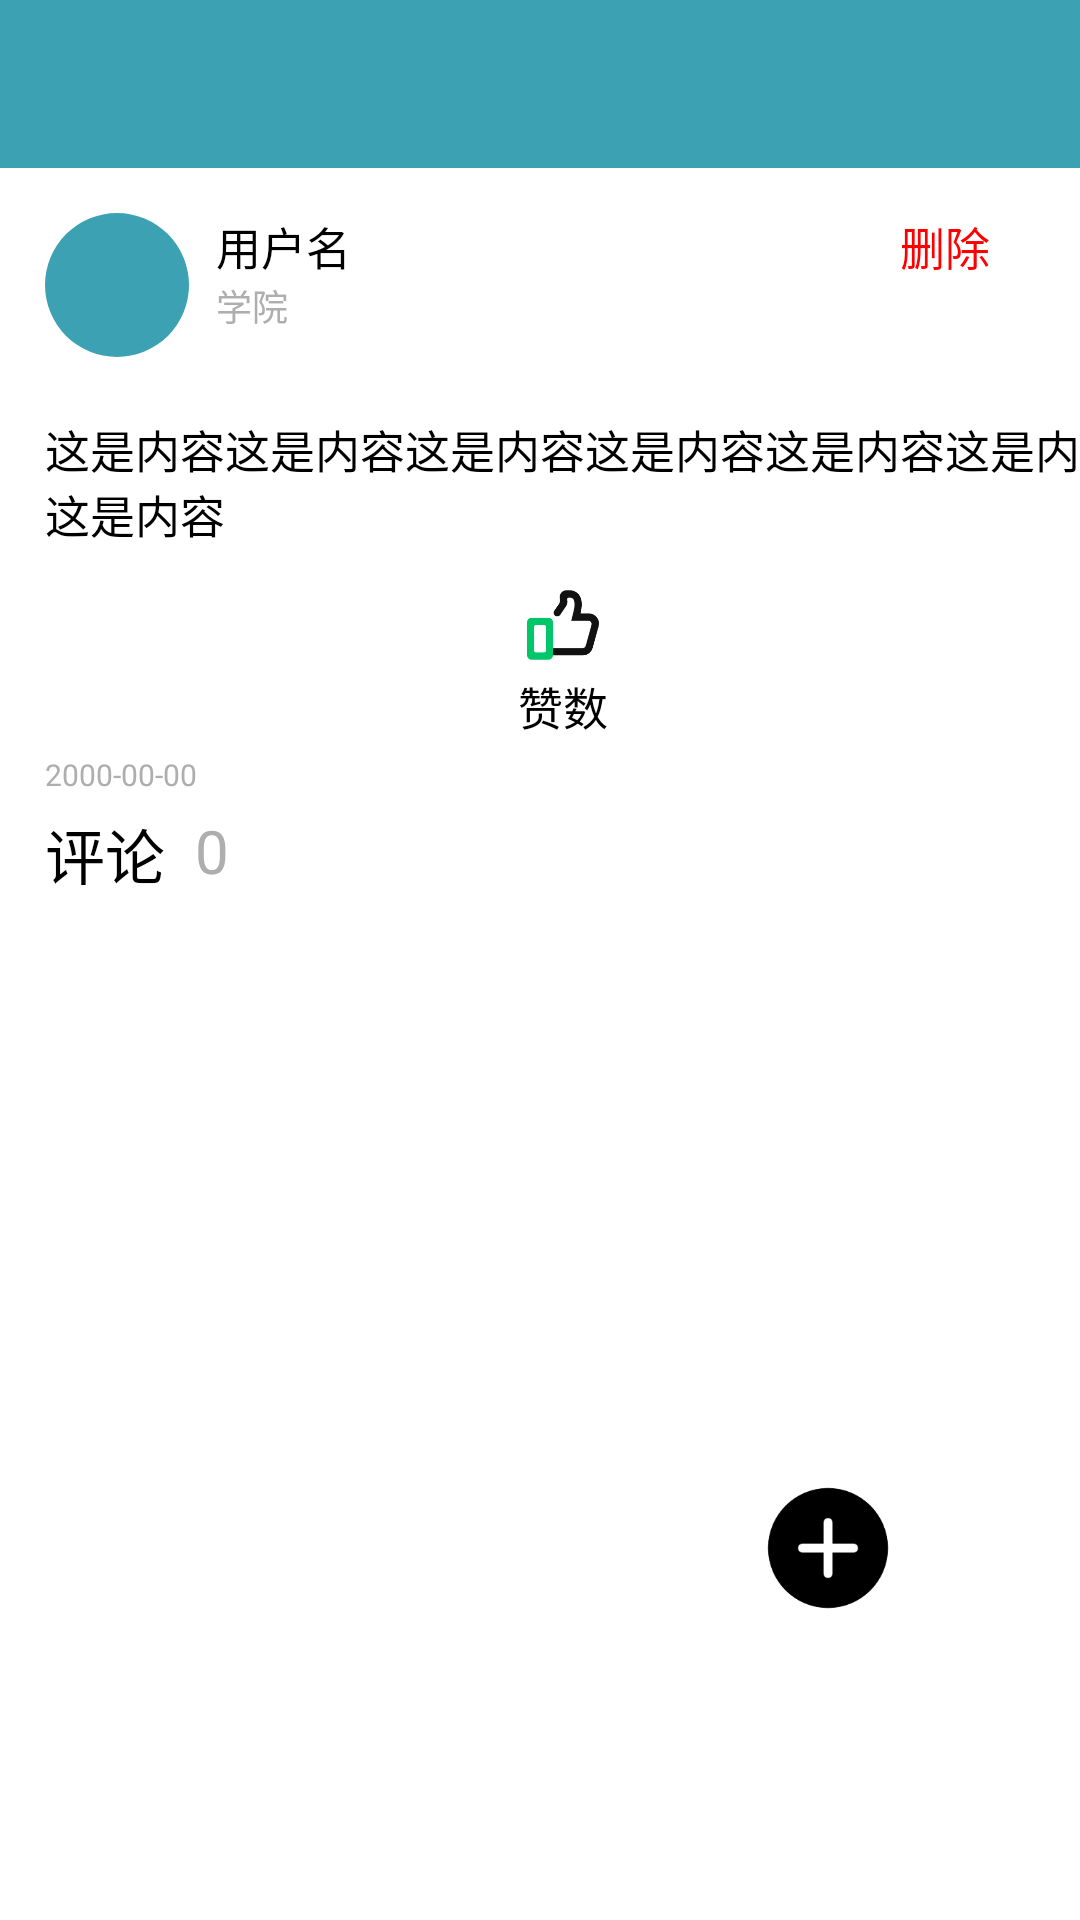

Where icons sit on this 1080*1920 app screen, as (x1, y1, x2, y2):
add: (767, 1487, 889, 1609)
